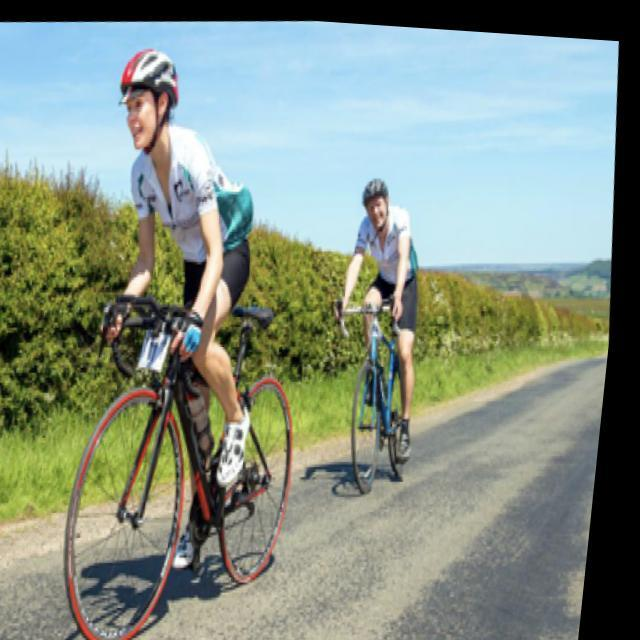Helmet: (111, 44, 188, 164), (356, 173, 396, 239)
